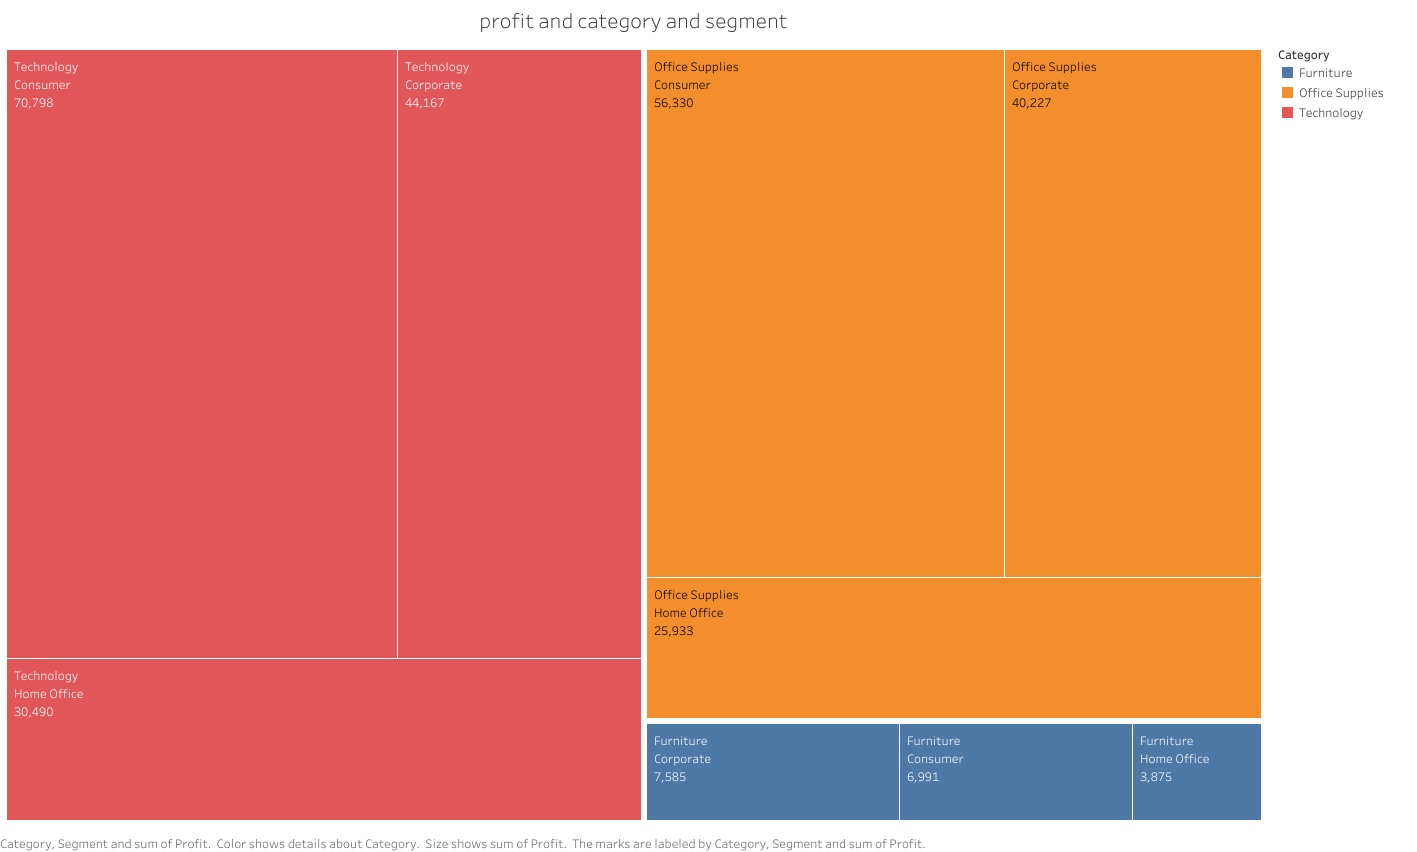

Layout of this report page (visuals, bound fields, positions):
{"tool":"tableau","page":{"name":"Dashboard 2","canvas":[1000,1000],"units":"permille","ordinal":1},"visuals":[{"type":"worksheet","title":"tree chart q2","mark":"Automatic","box":[6,11.8,433.6,488.2]},{"type":"worksheet","title":"tabular data q9","mark":"Automatic","rows":["Category","Sub-Category"],"box":[439.6,11.8,433.6,976.4]},{"type":"legend","title":"tree chart q2","param":"[federated.1bivvwv1tcjspc14eqmjx1nbz0v1].[none:Category:nk]","box":[873.2,11.8,120.8,126.7]},{"type":"legend","title":"world map q4","param":"[federated.1bivvwv1tcjspc14eqmjx1nbz0v1].[none:State:nk]","box":[873.2,138.4,120.8,849.8]},{"type":"worksheet","title":"world map q4","mark":"Multipolygon","box":[6,500,433.6,488.2]}]}

Visuals, with their boxes on the dashboard's canvas, which has no fixed pixel size, in thousandths of its width and height (x1, y1, x2, y2). These are canvas units, not pixel positions in the 1417x852 screenshot, which may show the page scaled, cropped or inside an application window:
"tree chart q2" worksheet: x1=6 y1=12 x2=440 y2=500
"tabular data q9" worksheet: x1=440 y1=12 x2=873 y2=988
"tree chart q2" legend: x1=873 y1=12 x2=994 y2=138
"world map q4" legend: x1=873 y1=138 x2=994 y2=988
"world map q4" worksheet (Multipolygon marks): x1=6 y1=500 x2=440 y2=988
